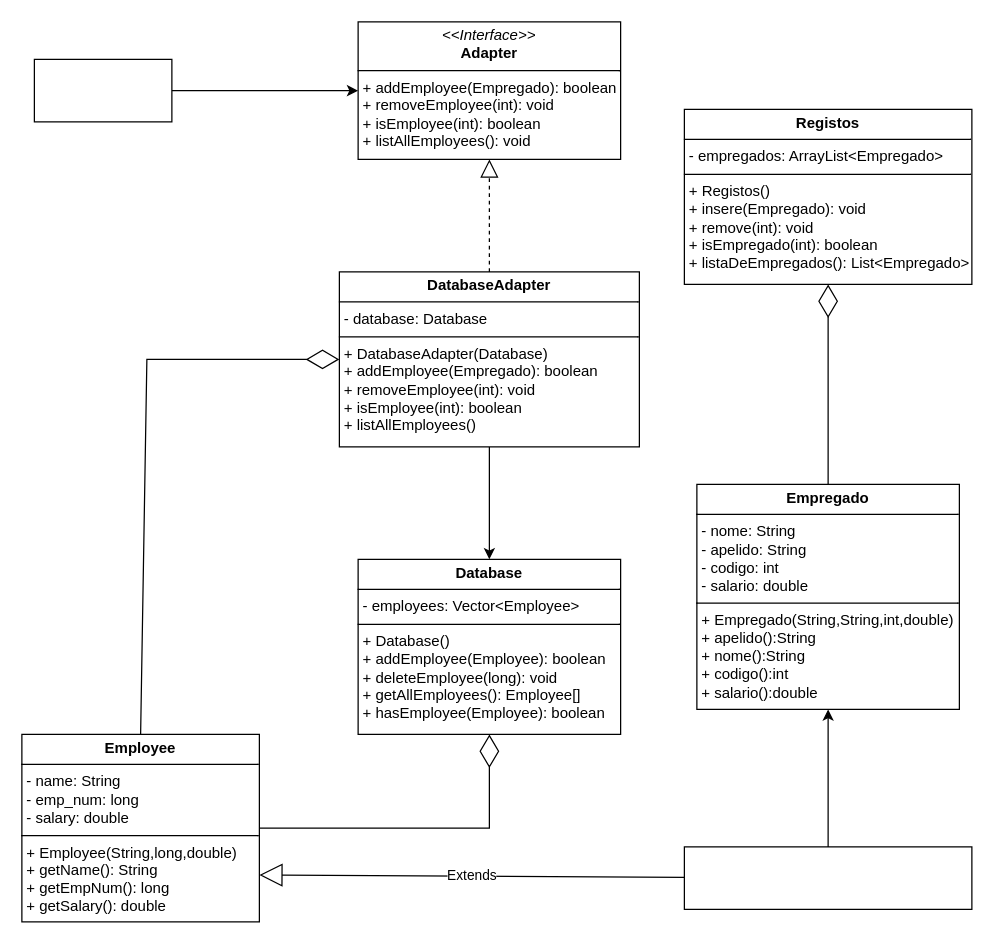
The diagram is 994 pixels wide and 944 high, and some of its shapes have lost their labels. Here are the shapes that lost their labels. From the top down, the centre of each, then its label:
point (102, 90): Client
point (827, 877): EmpregadoAdapter + EmpregadoAdapter():
